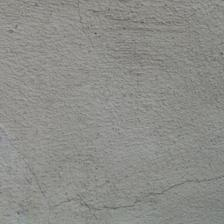Crack: (29, 86, 194, 126)
